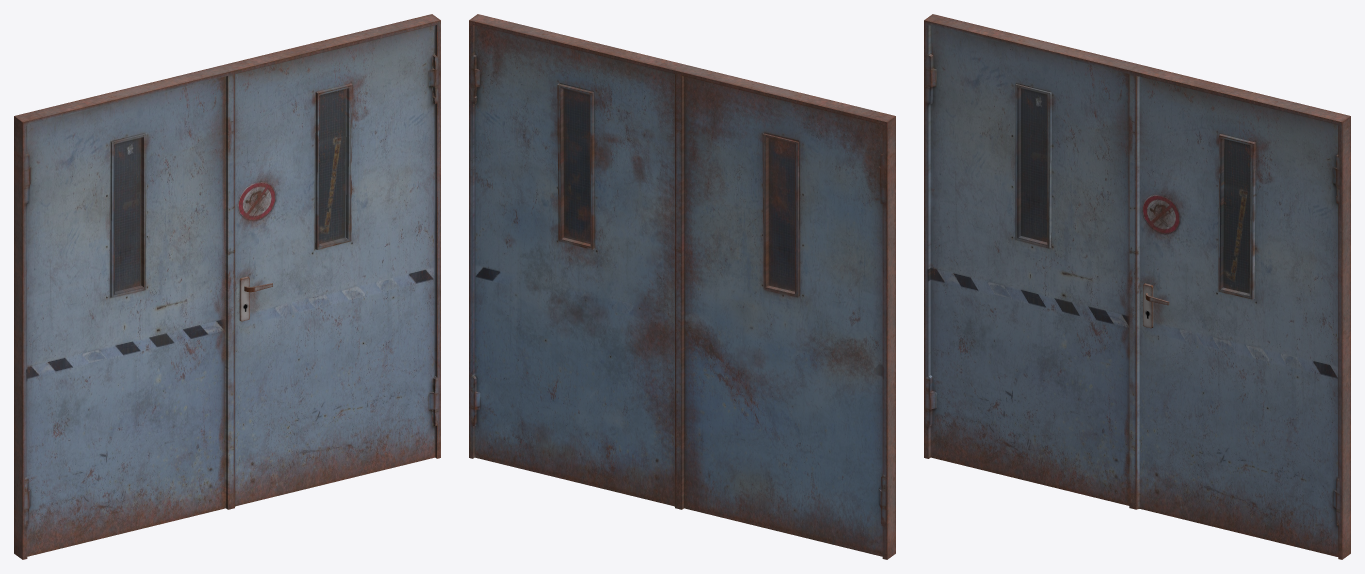
Rendered from door.fbx.
The picture shows the model from 3 angles, left to right: view 1: azimuth 30°, elevation 25°; view 2: azimuth 150°, elevation 25°; view 3: azimuth 330°, elevation 25°; orthographic projection.
Visible parts, largest first — view 1: Box002; view 2: Box002; view 3: Box002.
Boxes of the visible parts, x1,y1,x2,y2 form: Box002: (14,14,440,559); Box002: (469,14,895,559); Box002: (924,14,1350,559).
Bounding box in the file's own units: 200 × 200 × 9.73.
